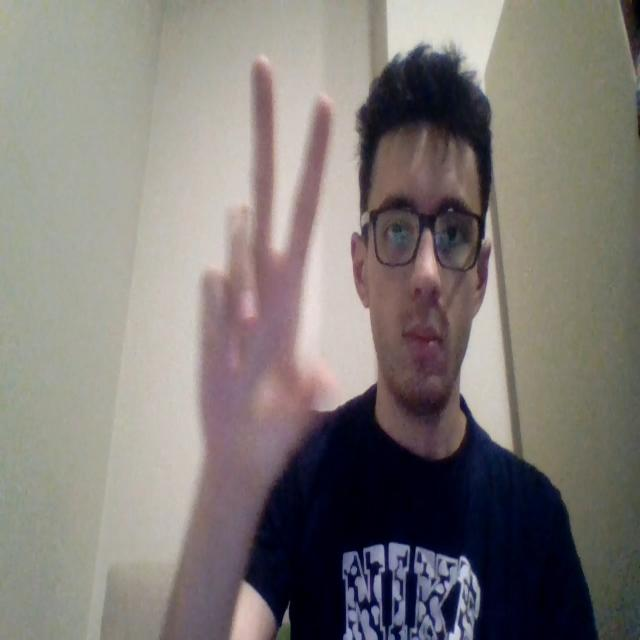no: (195, 52, 339, 504)
